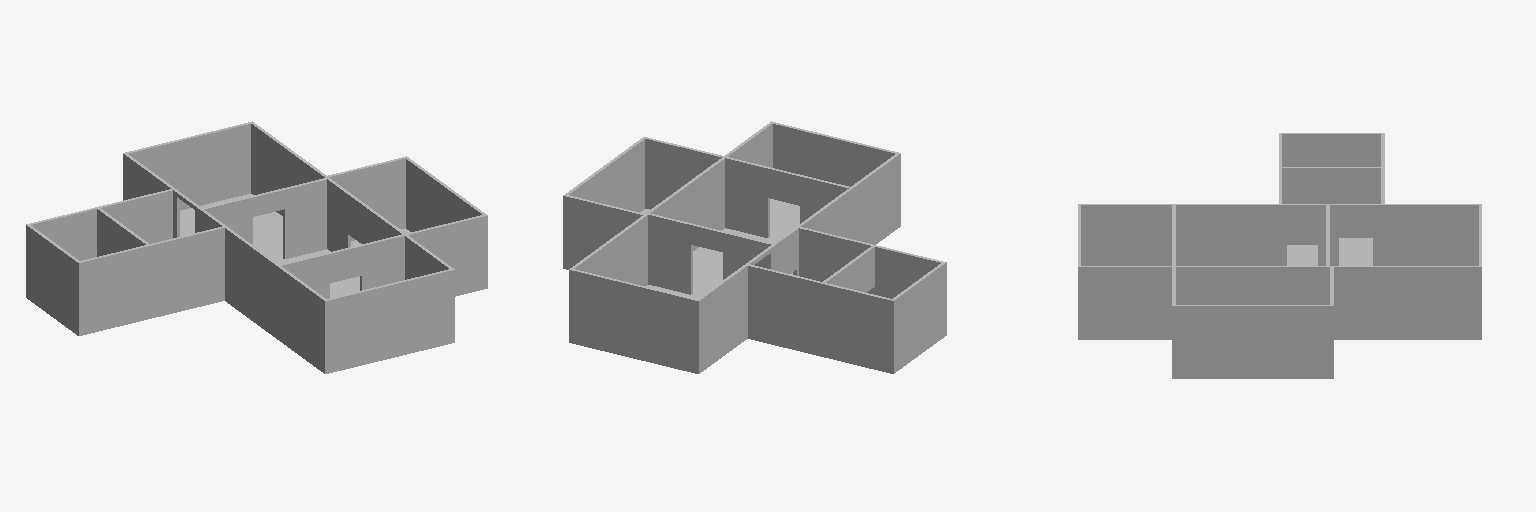
Rendered from level3.obj.
3 views of the same model, side by side, from view 1: azimuth 30°, elevation 25°; view 2: azimuth 150°, elevation 25°; view 3: azimuth 270°, elevation 25° (orthographic).
Visible parts, largest first — view 1: Cube.013, Cube.004, Cube.011, Cube.003, Cube.012, Cube.014, Cube.006, Cube.020, Cube.009, Cube.005, Cube.008, Cube.018 (+14 smaller); view 2: Cube.012, Cube.003, Cube.004, Cube.011, Cube.013, Cube.014, Cube.010, Cube.005, Cube.020, Cube.018, Cube.009, Cube.006 (+14 smaller); view 3: Cube.011, Cube.009, Cube.008, Cube.010, Cube.007, Cube.014, Cube.022, Cube.016, Cube.015, Cube.001, Cube.025, Cube.029 (+2 smaller).
Part boxes in pixels (x1,y1,x2,y2): Cube.013: (77, 226, 224, 332); Cube.004: (323, 268, 454, 370); Cube.011: (221, 224, 325, 368); Cube.003: (123, 121, 253, 210); Cube.012: (26, 189, 172, 295); Cube.014: (28, 225, 78, 330); Cube.006: (407, 214, 487, 292); Cube.020: (283, 178, 326, 258); Cube.009: (406, 158, 484, 231); Cube.005: (328, 156, 408, 240); Cube.008: (251, 123, 327, 215); Cube.018: (360, 234, 404, 290); Cube.012: (748, 264, 894, 370); Cube.003: (569, 268, 700, 370); Cube.004: (770, 121, 900, 223); Cube.011: (793, 154, 898, 275); Cube.013: (799, 227, 946, 332); Cube.014: (893, 263, 944, 369); Cube.010: (698, 261, 752, 368); Cube.005: (563, 194, 643, 267); Cube.020: (648, 213, 692, 294); Cube.018: (725, 157, 769, 237); Cube.009: (566, 138, 644, 212); Cube.006: (643, 137, 722, 209); Cube.011: (1081, 204, 1286, 265); Cube.009: (1176, 305, 1329, 375); Cube.008: (1330, 266, 1478, 336); Cube.010: (1373, 204, 1478, 265); Cube.007: (1081, 266, 1175, 336); Cube.014: (1282, 133, 1380, 166); Cube.022: (1323, 167, 1380, 237); Cube.016: (1176, 266, 1250, 304); Cube.015: (1286, 266, 1329, 304); Cube.001: (1287, 238, 1372, 265); Cube.025: (1282, 167, 1322, 203); Cube.029: (1251, 266, 1285, 304).
Bounding box in the file's own units: 37.6 × 7.39 × 37.05.